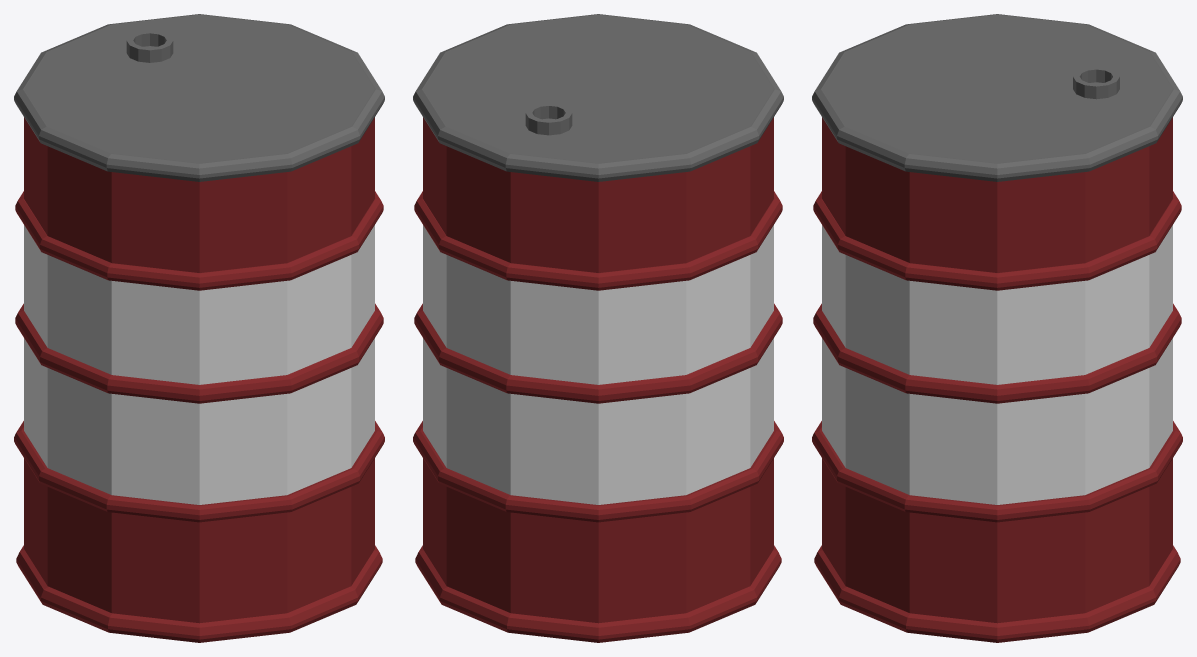
File: Barrel2.fbx
3 renders of one model, left to right at view 1: azimuth 30°, elevation 25°; view 2: azimuth 150°, elevation 25°; view 3: azimuth 270°, elevation 25°, orthographic.
Parts seen in each view (by area): view 1: Cylinder; view 2: Cylinder; view 3: Cylinder.
Part boxes in pixels (x1,y1,x2,y2): Cylinder: (14,14,384,642); Cylinder: (413,14,783,642); Cylinder: (812,14,1182,642).
Size of the model in its own units: 212 by 309 by 212.
